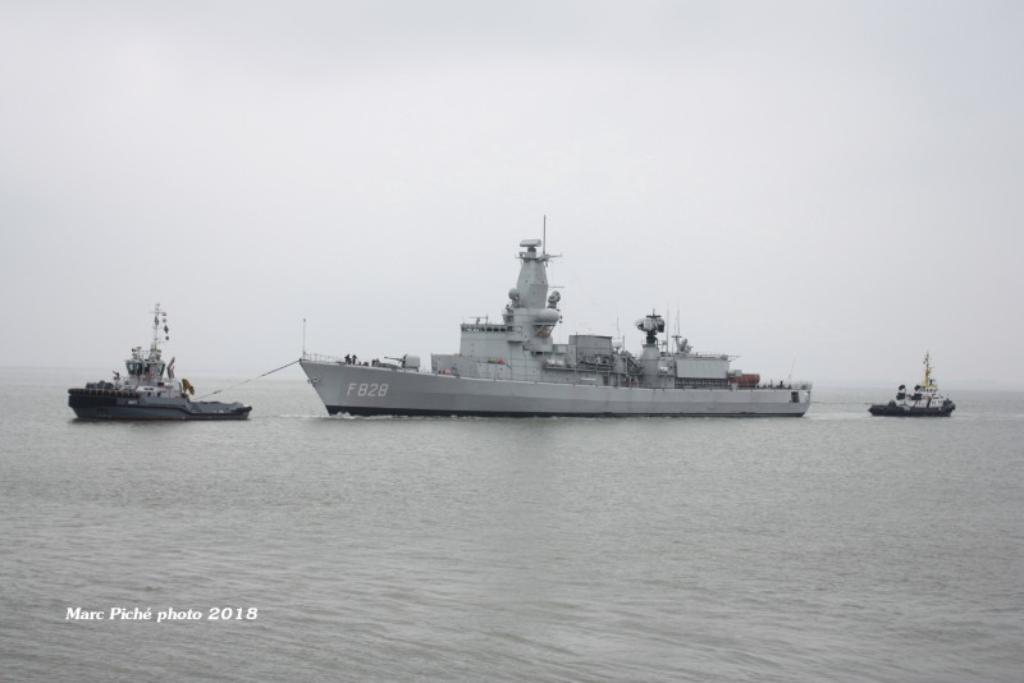Warship: (292, 206, 816, 418)
